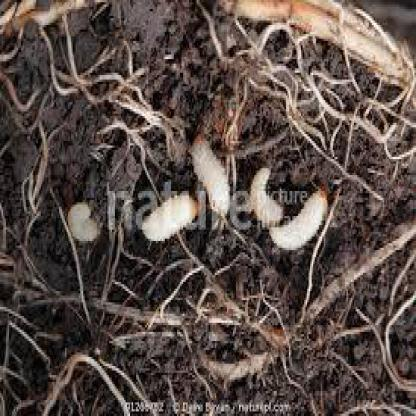root grubs: (270, 189, 328, 252), (141, 190, 201, 243), (192, 139, 229, 220)
